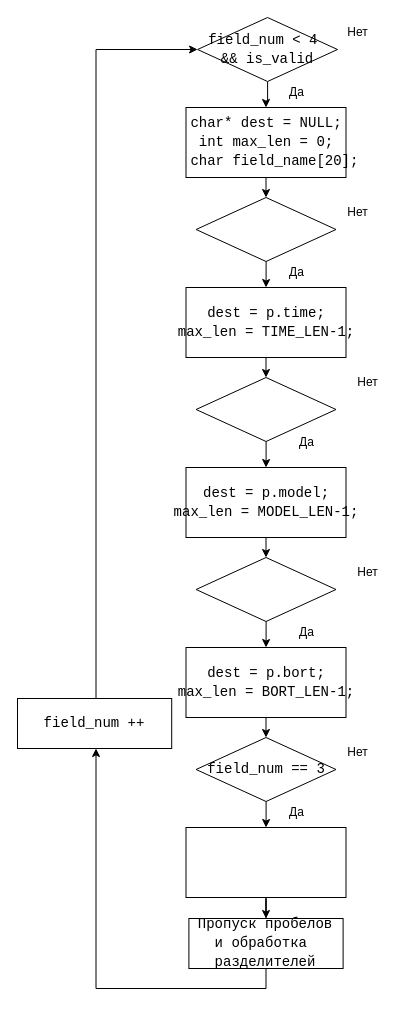
The diagram is 405 pixels wide and 1014 high, and some of its shapes have lost their labels. Here are the shapes that lost their labels. From the top down, the box of each, then its label:
(195, 196, 336, 262): field_num == 0
(195, 376, 336, 442): field_num == 1
(195, 556, 336, 622): field_num == 2
(185, 826, 346, 898): dest = p. airport ; max_len = AIRPORT_LEN -1;
